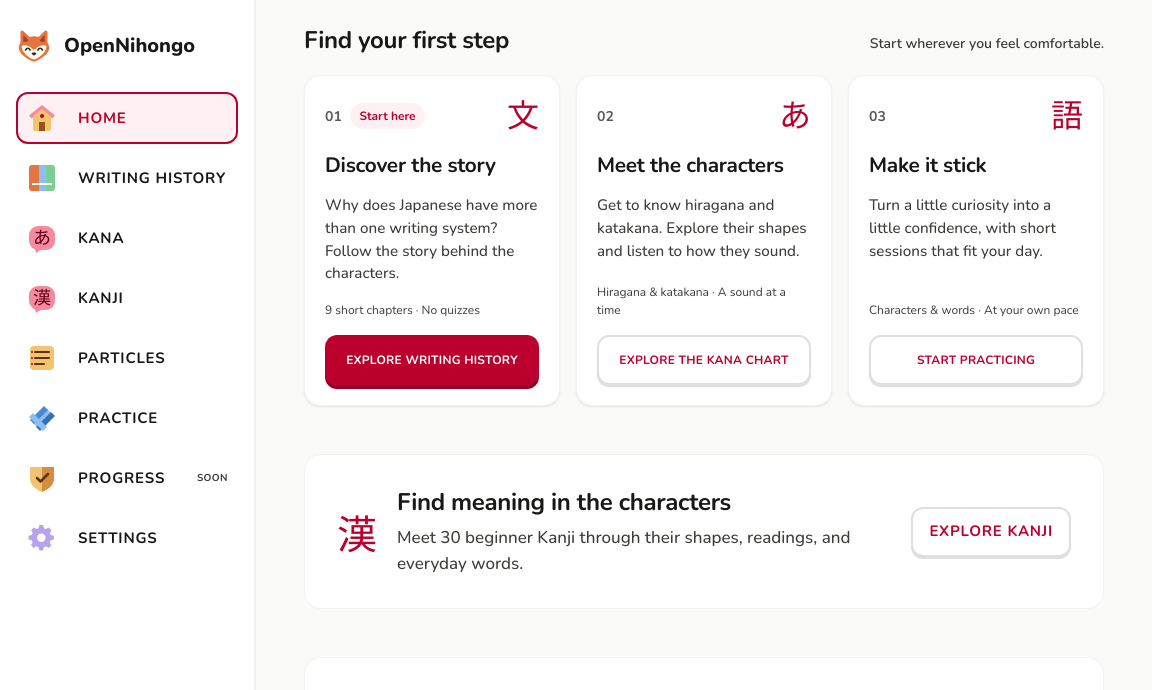
Test: web application routes › opens vocabulary from Practice
The width and height of the screenshot is (1152, 690).
(page scrolled)
Click the link "Start practicing" at (976, 360), box x1=869 y1=335 x2=1083 y2=385
(page scrolled)
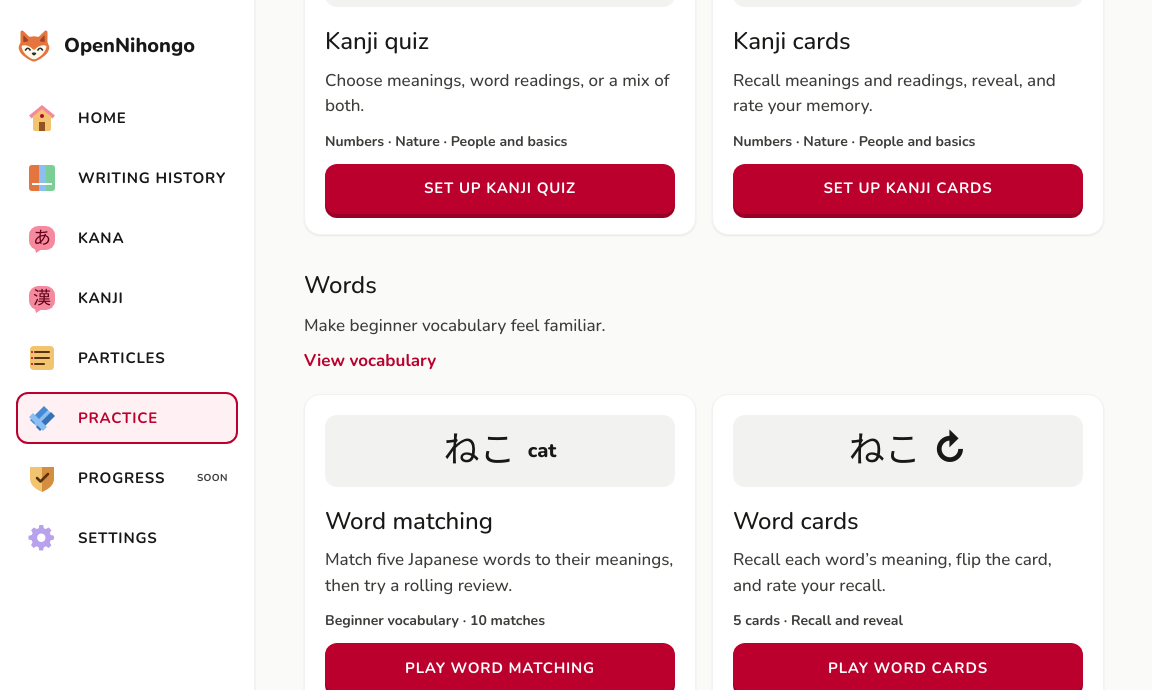
Click the link "View vocabulary" at (370, 361), box x1=304 y1=349 x2=436 y2=372
(page scrolled)
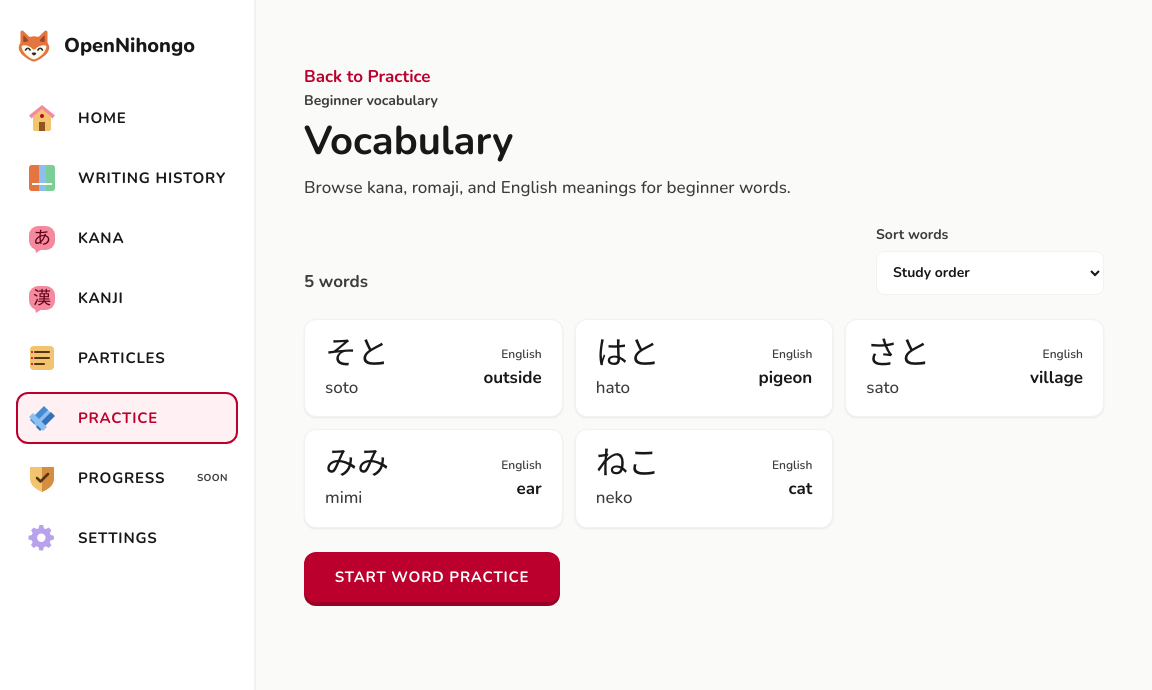
Check: the heading "Vocabulary" is shown, box x1=304 y1=114 x2=513 y2=168
Check: the text "5 words" is shown, box x1=304 y1=269 x2=368 y2=295
